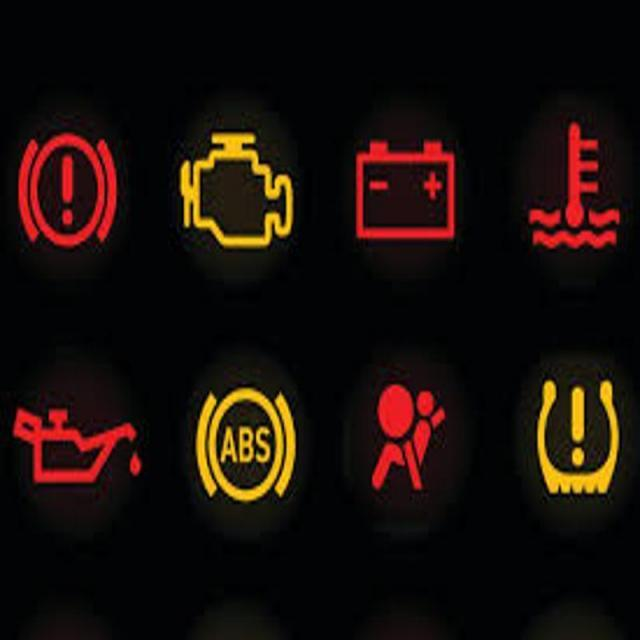BatteryWarning: (356, 139, 454, 238)
EngineWarning: (179, 131, 292, 244)
HandBrakeWarning: (16, 133, 115, 245)
